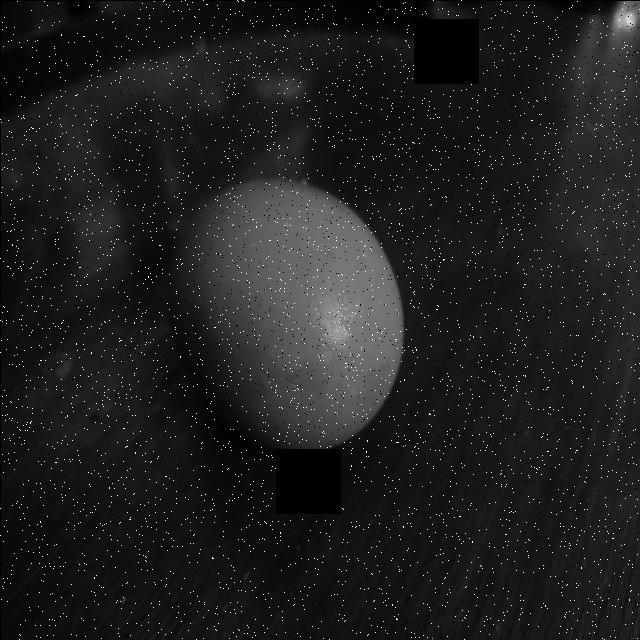egg: (160, 166, 409, 462)
